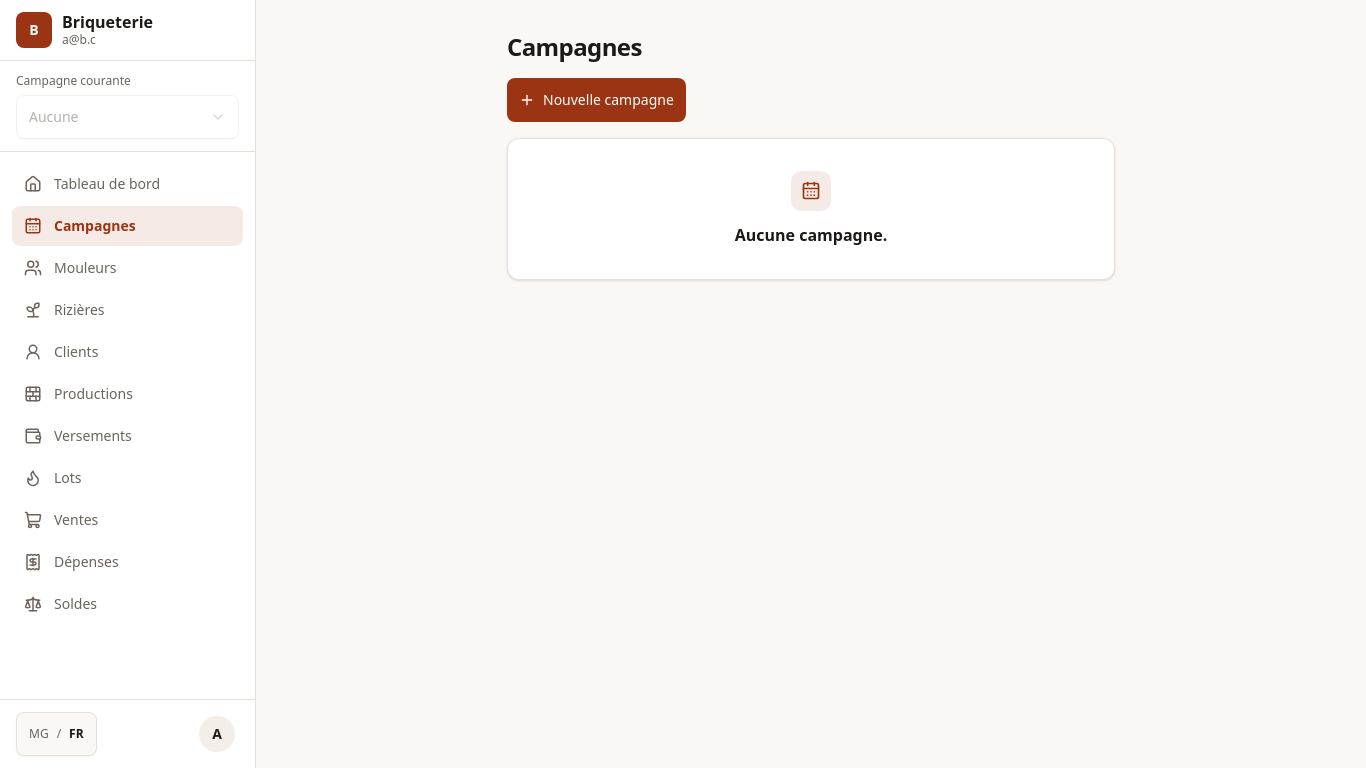
Test: routes › reaches the moulders from the section links
Click the link "Mouleurs" at (70, 268), box [24,258,116,277]
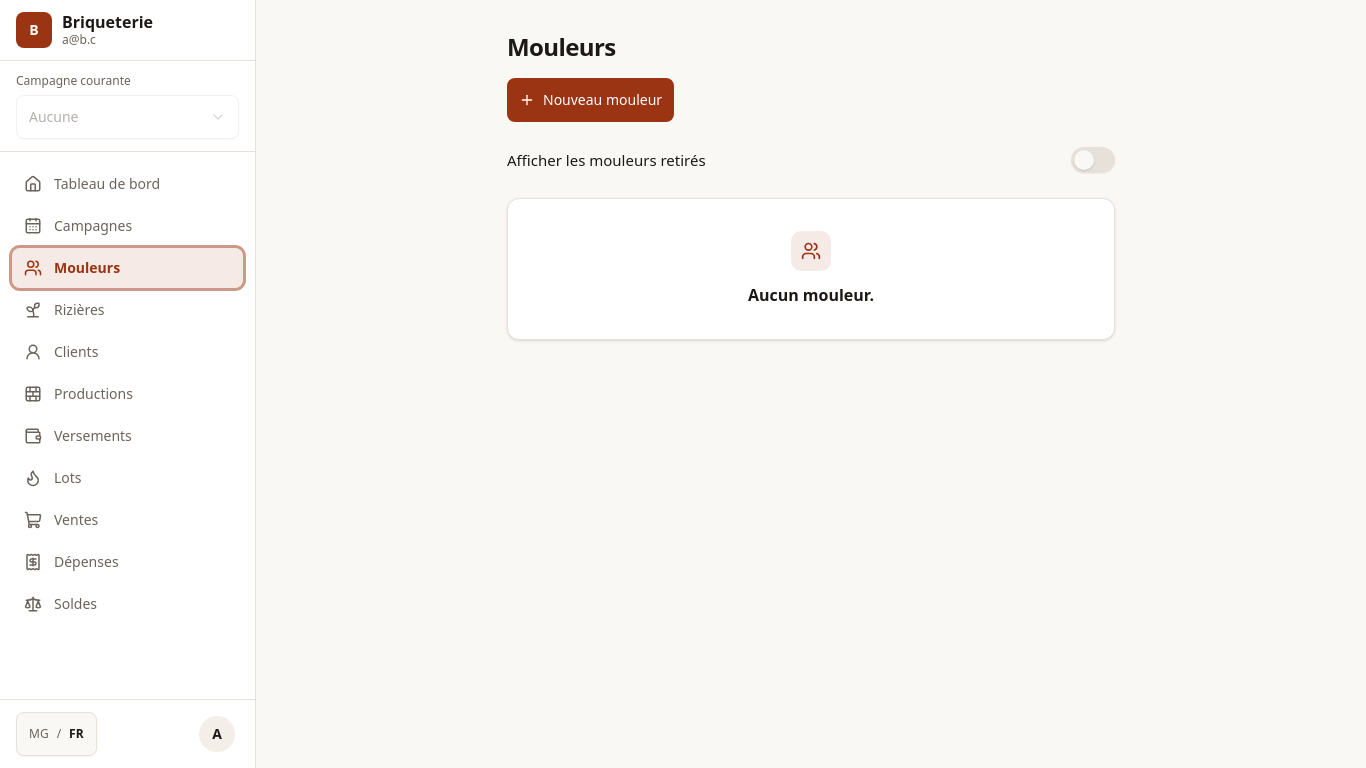
Expected: the text "Aucun mouleur." is shown, [748,283,874,307]
